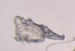microplastic: (12, 15, 66, 43)
